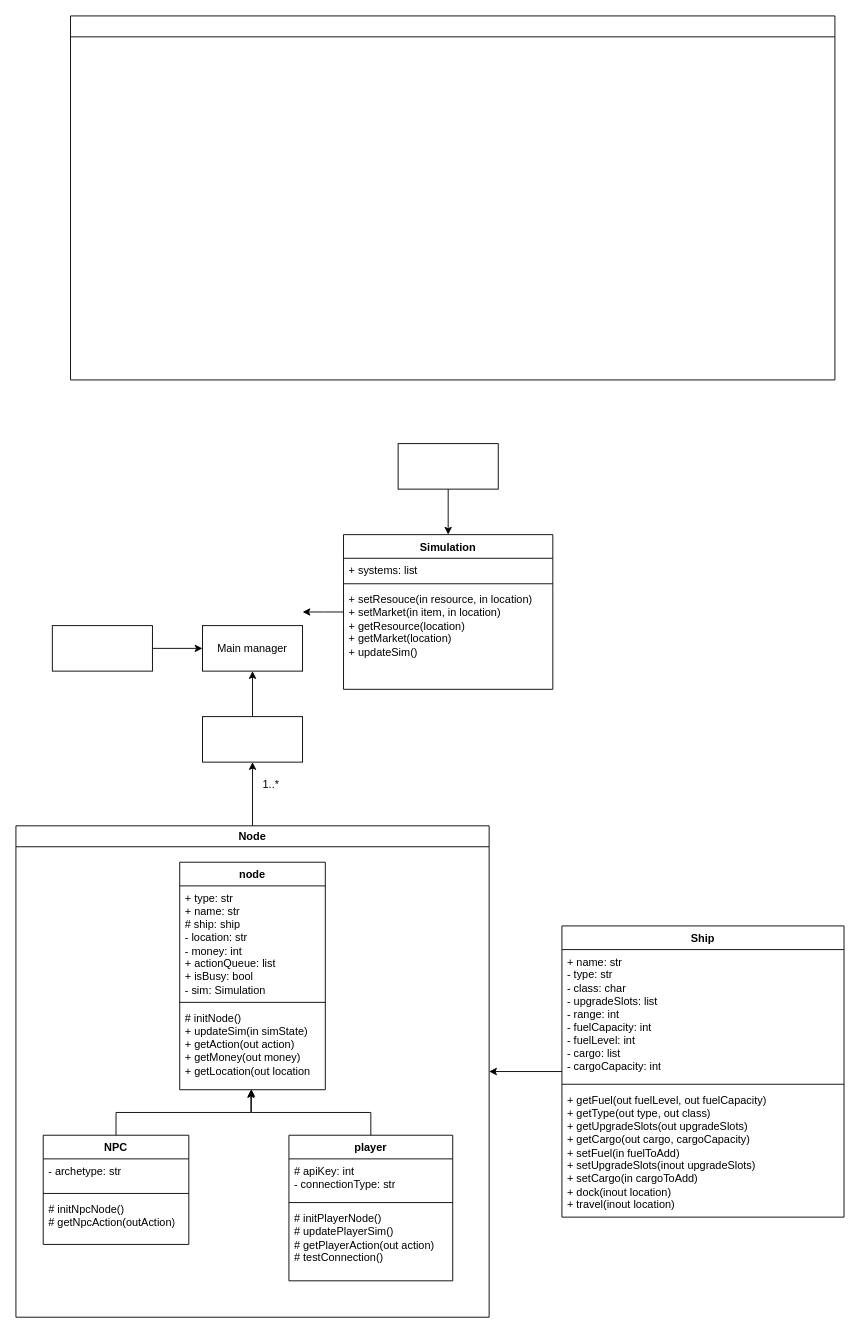
This 860x1333 diagram has some shape labels left out. Here are the shapes that lost their labels. From the top down, the centre of each, then its label:
(452,197): System
(447,466): systems
(101,648): API Database
(252,739): Node queue
